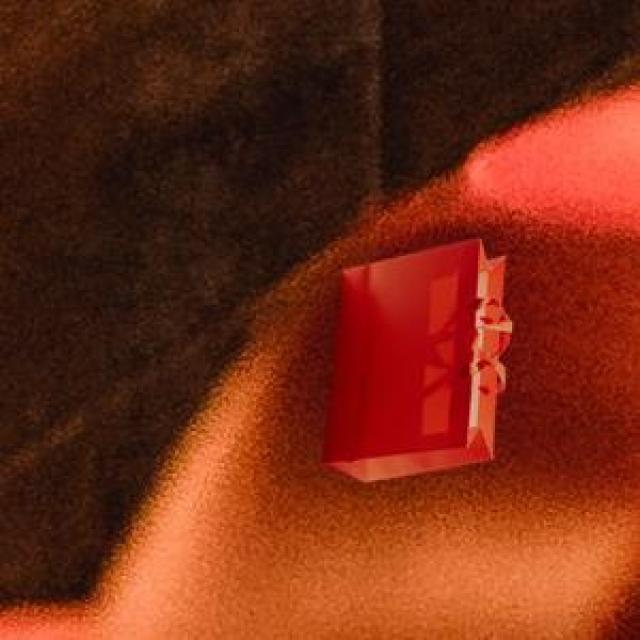paper: (318, 235, 508, 478)
